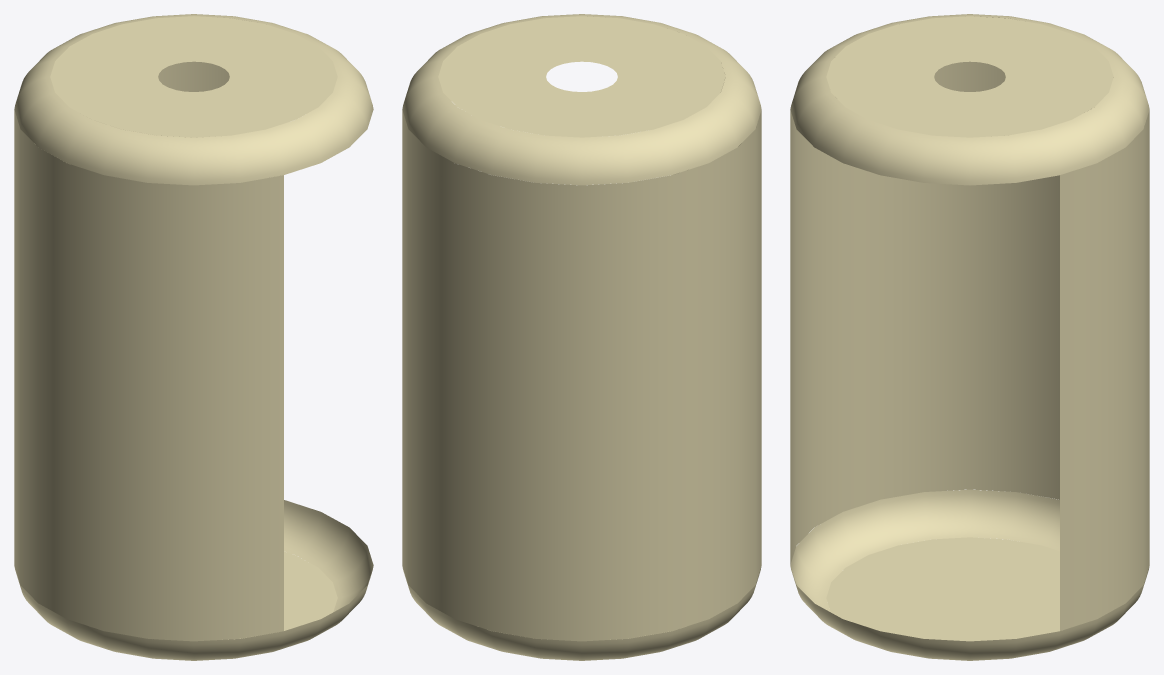
File: original_1.obj
3 views of the same model, side by side, from view 1: azimuth 30°, elevation 25°; view 2: azimuth 150°, elevation 25°; view 3: azimuth 270°, elevation 25° (orthographic).
Visible parts, largest first — view 1: #ID3; view 2: #ID3; view 3: #ID3.
Part boxes in pixels (box(x1,y1,x2,y2)): #ID3: box(14, 14, 373, 660); #ID3: box(402, 14, 761, 660); #ID3: box(790, 14, 1149, 660).
Bounding box in the file's own units: 0.8061 × 1.29 × 0.806.
